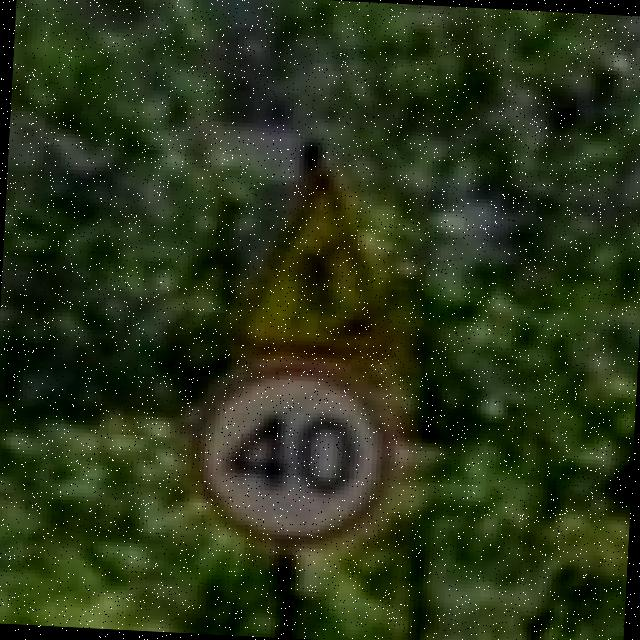Ograniczenie predkosci do 40: (187, 360, 399, 552)
